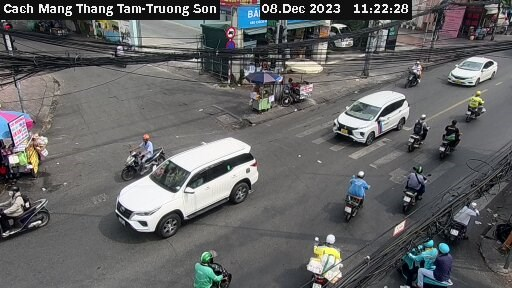car: (114, 139, 259, 233), (334, 89, 409, 146), (448, 54, 497, 88)
motorbike: (290, 235, 360, 286), (395, 236, 458, 286), (2, 184, 56, 236), (336, 170, 385, 226), (117, 134, 177, 175), (188, 244, 243, 287), (446, 197, 487, 243), (396, 163, 438, 206), (398, 56, 436, 91), (458, 89, 492, 126), (436, 132, 469, 161), (405, 119, 431, 152)
